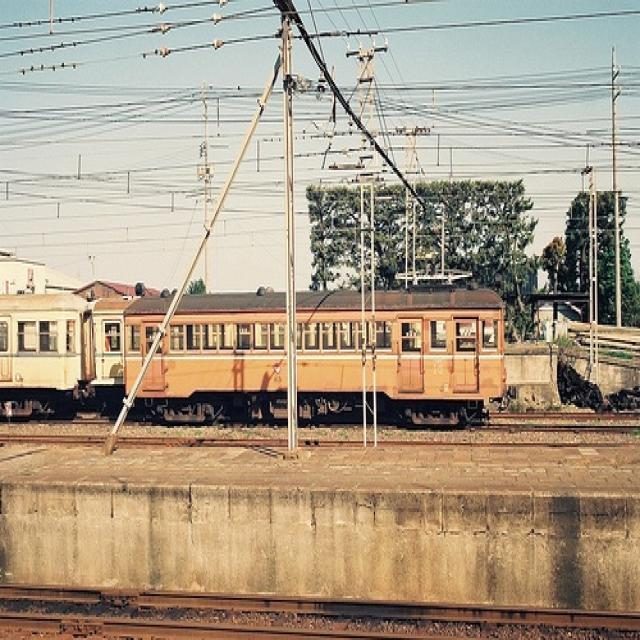train: (0, 273, 512, 434)
